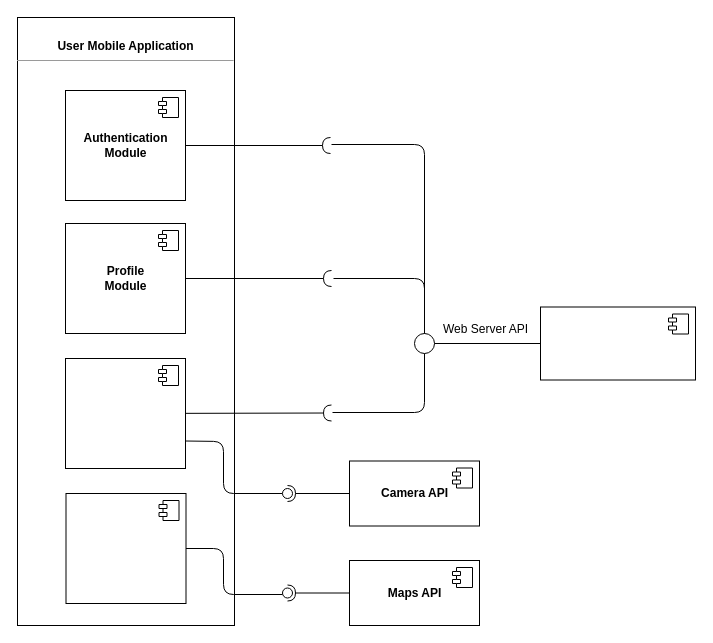
Some shapes in this 713 by 643 pixel diagram are drawn without their labels. Each missing label, with the centre of its shape:
"Main Thread Module" belongs at point (125, 548).
"User Application Services" belongs at point (618, 343).
"Violations Report Module" belongs at point (125, 413).
